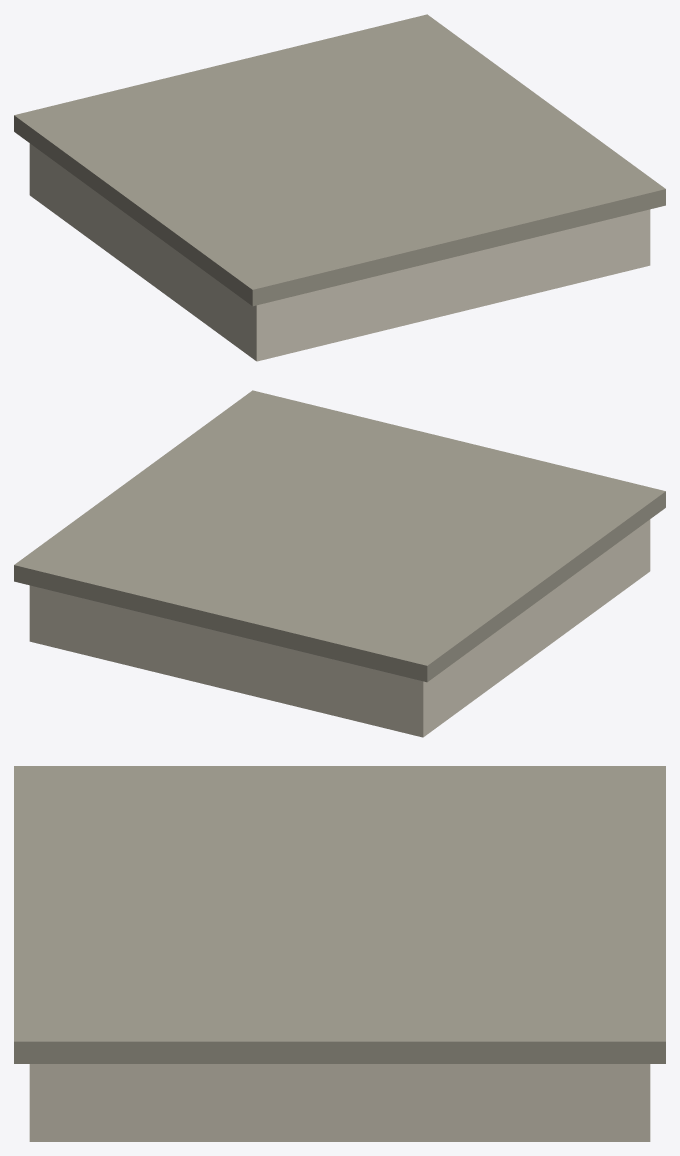
Rendered from arch.setback-adapter.glb.
3 renders of one model, top to bottom at view 1: azimuth 30°, elevation 25°; view 2: azimuth 150°, elevation 25°; view 3: azimuth 270°, elevation 25°, orthographic. The views are drawn at different scales.
Parts seen in each view (by area): view 1: arch.setback-adapter; view 2: arch.setback-adapter; view 3: arch.setback-adapter.
Boxes of the visible parts, x1,y1,x2,y2 form: arch.setback-adapter: (14,14,665,361); arch.setback-adapter: (14,390,665,737); arch.setback-adapter: (14,766,665,1141).
Size of the model in its own units: 2.1 by 0.38 by 2.1.
